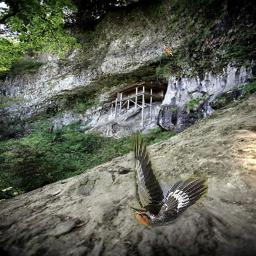Cuckoo: (161, 45, 173, 60)
Woodpecker: (130, 132, 208, 227)
